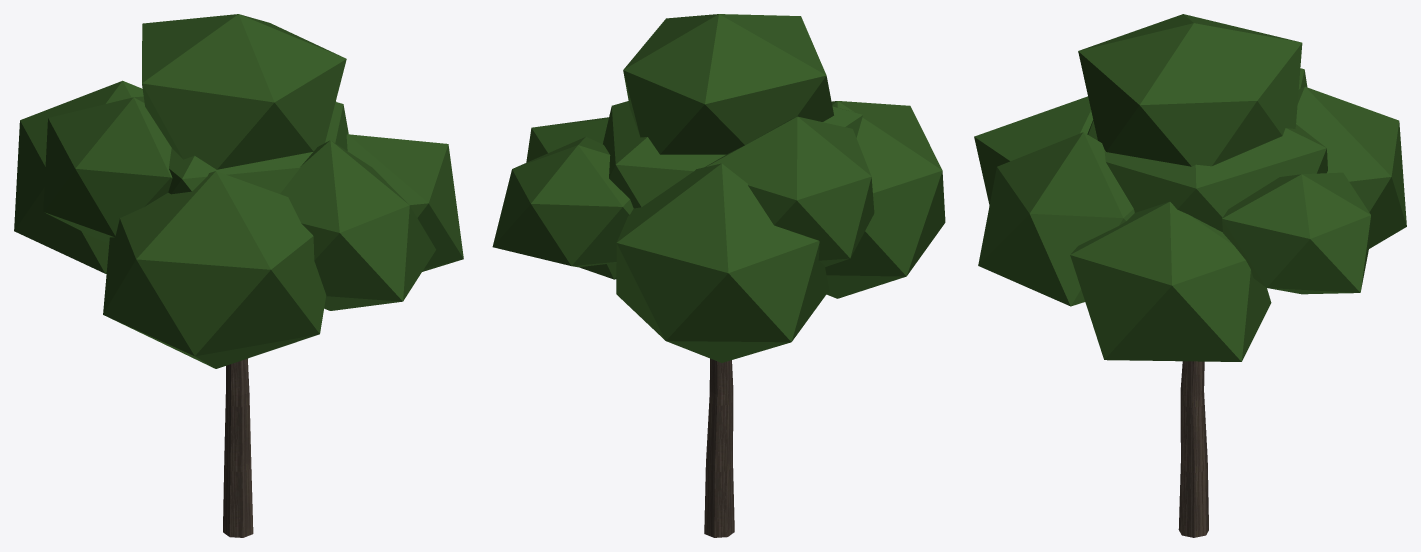
File: tree_walnut.glb
3 views of the same model, side by side, from view 1: azimuth 30°, elevation 25°; view 2: azimuth 150°, elevation 25°; view 3: azimuth 270°, elevation 25° (orthographic).
Visible parts, largest first — view 1: Tree_Walnut; view 2: Tree_Walnut; view 3: Tree_Walnut.
Boxes of the visible parts, <box> form: Tree_Walnut: <box>14,14,463,537</box>; Tree_Walnut: <box>492,14,945,537</box>; Tree_Walnut: <box>974,14,1406,537</box>.
Bounding box in the file's own units: 5.81 × 7.93 × 6.12.
Materials: 2 (2 with a texture image).
